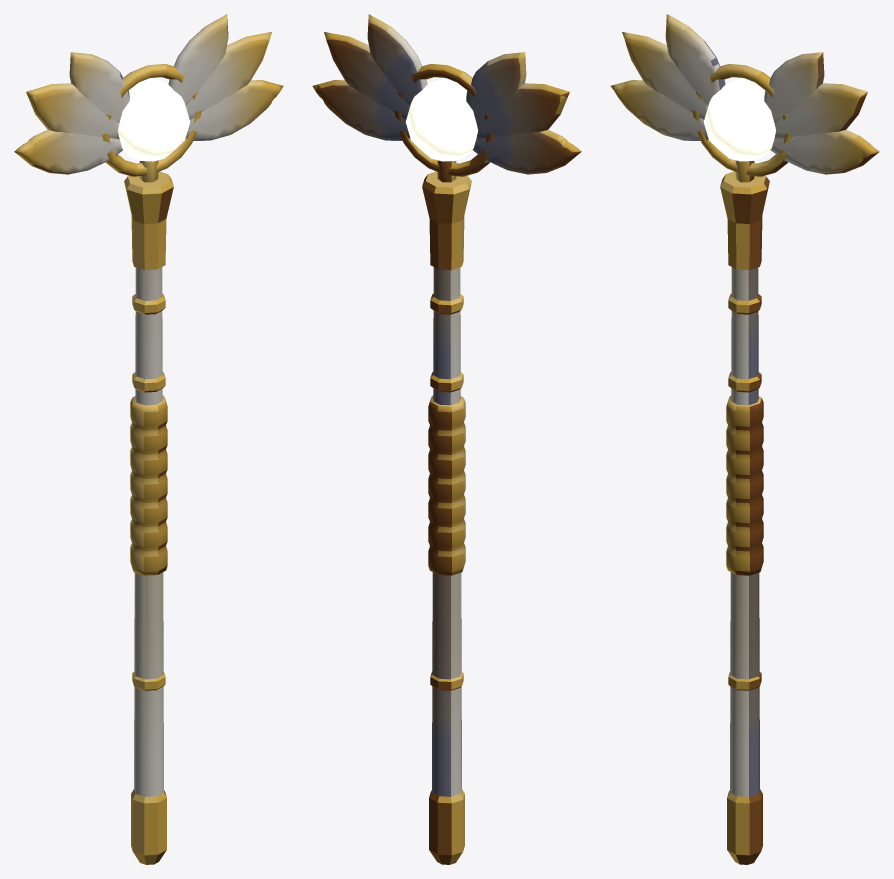
File: sc_seraph_scepter.glb
3 renders of one model, left to right at view 1: azimuth 30°, elevation 25°; view 2: azimuth 150°, elevation 25°; view 3: azimuth 330°, elevation 25°, orthographic.
Parts seen in each view (by area): view 1: Weapon; view 2: Weapon; view 3: Weapon.
Part boxes in pixels (left/top/right/bottom): Weapon: left=14, top=14, right=283, bottom=864; Weapon: left=312, top=14, right=581, bottom=864; Weapon: left=610, top=14, right=879, bottom=864.
Size of the model in its own units: 0.4345 by 1.27 by 0.1103.
